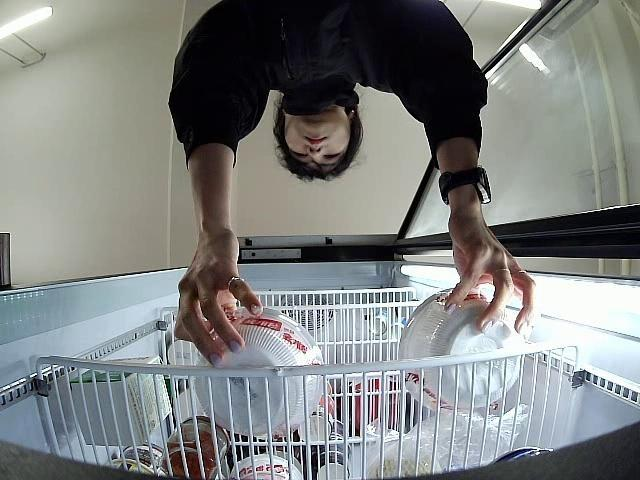09_yukGaeJang: (194, 306, 322, 439), (398, 289, 521, 412)
